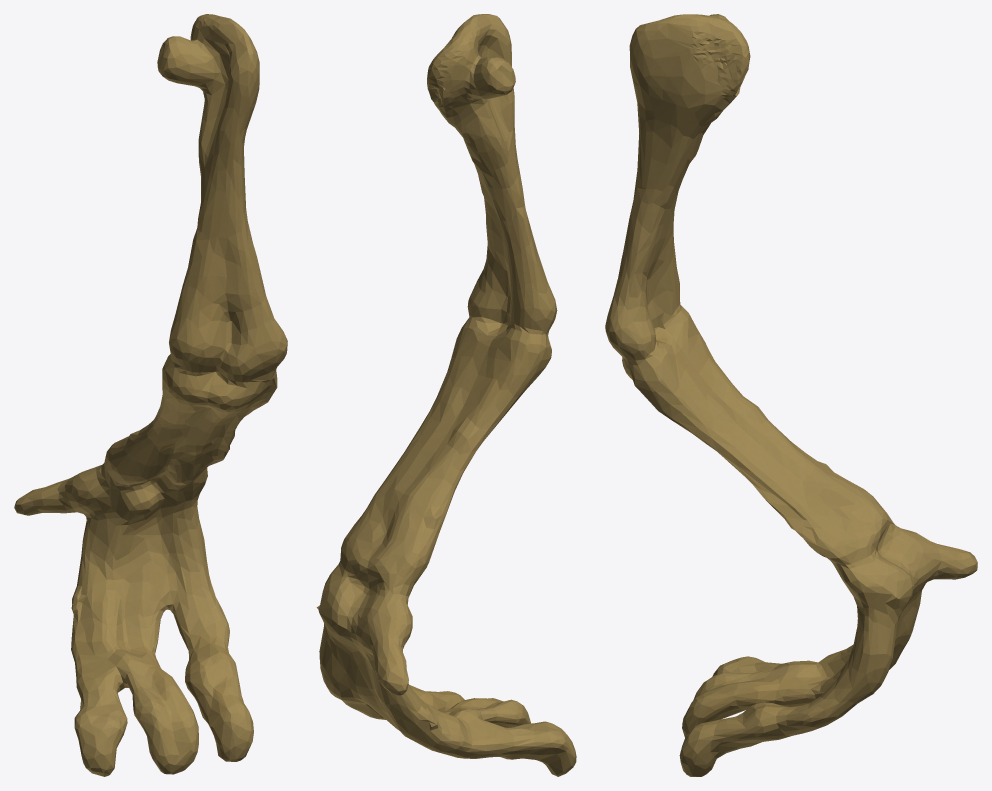
Rendered from bone11.glb.
3 renders of one model, left to right at view 1: azimuth 30°, elevation 25°; view 2: azimuth 150°, elevation 25°; view 3: azimuth 270°, elevation 25°, orthographic. The views are drawn at different scales.
Parts seen in each view (by area): view 1: tripo_node_3fe83984-8231-4d84-aab0-b1d13c943ae7; view 2: tripo_node_3fe83984-8231-4d84-aab0-b1d13c943ae7; view 3: tripo_node_3fe83984-8231-4d84-aab0-b1d13c943ae7.
Part boxes in pixels (x1,y1,x2,y2): tripo_node_3fe83984-8231-4d84-aab0-b1d13c943ae7: (14, 14, 287, 776); tripo_node_3fe83984-8231-4d84-aab0-b1d13c943ae7: (316, 14, 576, 776); tripo_node_3fe83984-8231-4d84-aab0-b1d13c943ae7: (605, 14, 977, 776).
Size of the model in its own units: 0.2642 by 0.9812 by 0.4388.
1 material, 1 textured.
